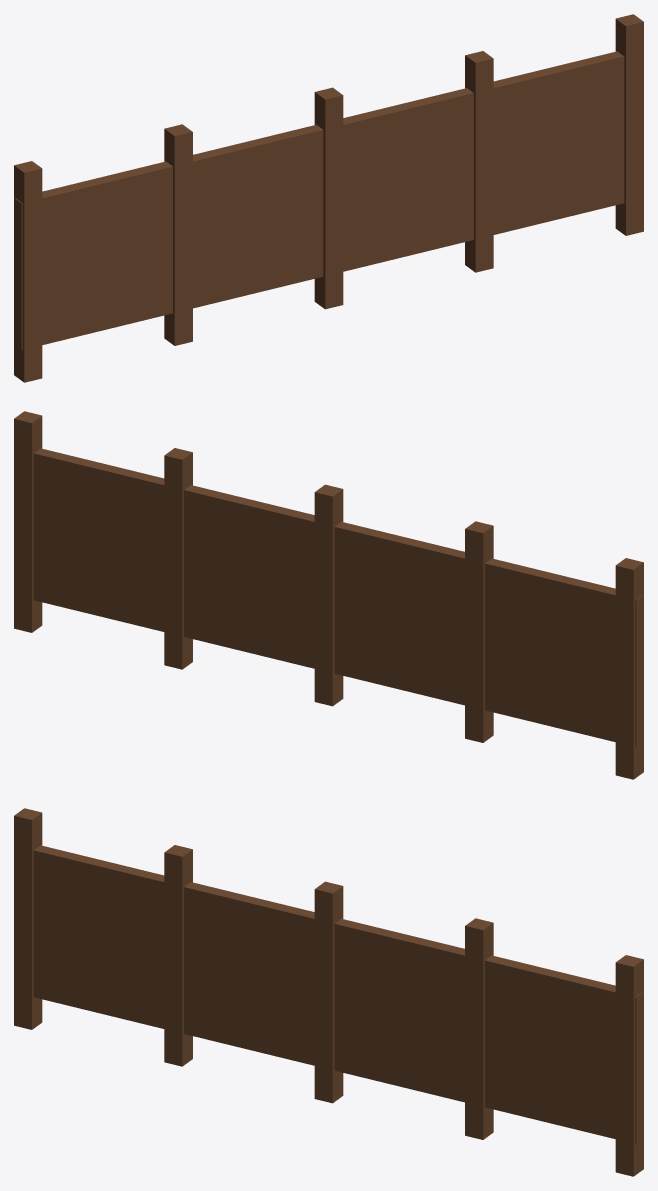
File: wind-sand-barrier.source.glb
3 renders of one model, top to bottom at view 1: azimuth 30°, elevation 25°; view 2: azimuth 150°, elevation 25°; view 3: azimuth 330°, elevation 25°, orthographic.
Visible parts, largest first — view 1: wind-sand-barrier-screen-mesh, wind-sand-barrier-post--3-mesh, wind-sand-barrier-post-0-mesh, wind-sand-barrier-post-1.5-mesh, wind-sand-barrier-post--1.5-mesh, wind-sand-barrier-post-3-mesh; view 2: wind-sand-barrier-screen-mesh, wind-sand-barrier-post--3-mesh, wind-sand-barrier-post-0-mesh, wind-sand-barrier-post-1.5-mesh, wind-sand-barrier-post--1.5-mesh, wind-sand-barrier-post-3-mesh; view 3: wind-sand-barrier-screen-mesh, wind-sand-barrier-post-3-mesh, wind-sand-barrier-post-0-mesh, wind-sand-barrier-post--1.5-mesh, wind-sand-barrier-post-1.5-mesh, wind-sand-barrier-post--3-mesh.
Part boxes in pixels (x1,y1,x2,y2): wind-sand-barrier-screen-mesh: [14, 51, 624, 350]; wind-sand-barrier-post--3-mesh: [14, 161, 42, 382]; wind-sand-barrier-post-0-mesh: [314, 87, 343, 309]; wind-sand-barrier-post-1.5-mesh: [465, 51, 493, 272]; wind-sand-barrier-post--1.5-mesh: [164, 124, 192, 345]; wind-sand-barrier-post-3-mesh: [615, 14, 643, 235]; wind-sand-barrier-screen-mesh: [33, 448, 643, 747]; wind-sand-barrier-post--3-mesh: [615, 558, 643, 779]; wind-sand-barrier-post-0-mesh: [314, 484, 343, 706]; wind-sand-barrier-post-1.5-mesh: [164, 448, 192, 669]; wind-sand-barrier-post--1.5-mesh: [465, 521, 493, 742]; wind-sand-barrier-post-3-mesh: [14, 411, 42, 632]; wind-sand-barrier-screen-mesh: [33, 845, 643, 1144]; wind-sand-barrier-post-3-mesh: [615, 955, 643, 1176]; wind-sand-barrier-post-0-mesh: [314, 881, 343, 1103]; wind-sand-barrier-post--1.5-mesh: [164, 845, 192, 1066]; wind-sand-barrier-post-1.5-mesh: [465, 918, 493, 1139]; wind-sand-barrier-post--3-mesh: [14, 808, 42, 1029].
Bounding box in the file's own units: 6.2 × 2 × 0.18.
